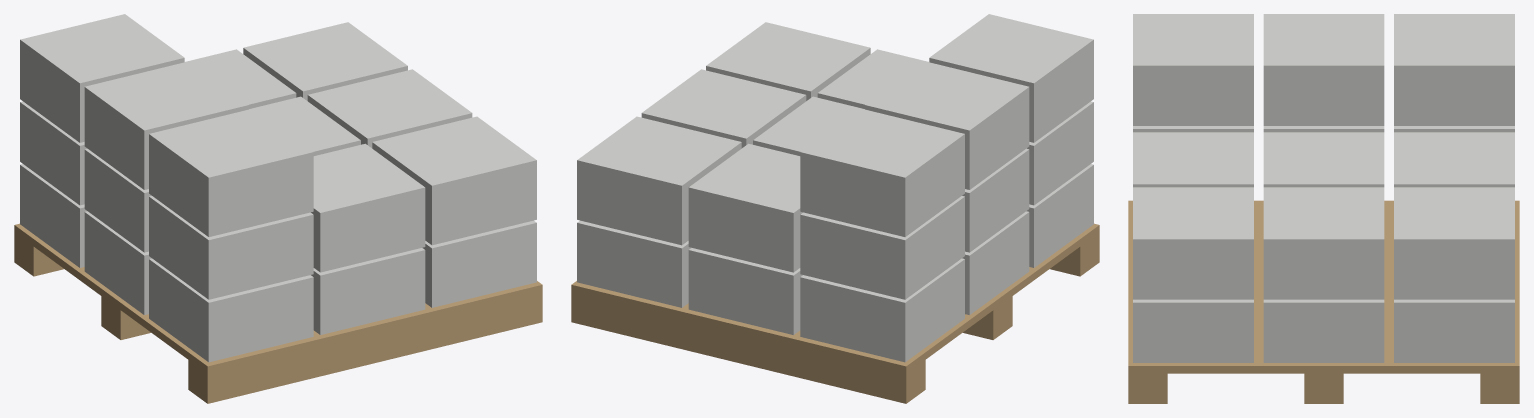
File: pallet_mp_21.glb
3 renders of one model, left to right at view 1: azimuth 30°, elevation 25°; view 2: azimuth 150°, elevation 25°; view 3: azimuth 270°, elevation 25°, orthographic.
Parts seen in each view (by area): view 1: PalletMP; view 2: PalletMP; view 3: PalletMP.
Boxes of the visible parts, x1,y1,x2,y2 form: PalletMP: (14, 14, 542, 403); PalletMP: (571, 14, 1099, 403); PalletMP: (1128, 14, 1519, 403).
Bounding box in the file's own units: 1 × 0.6386 × 1.
